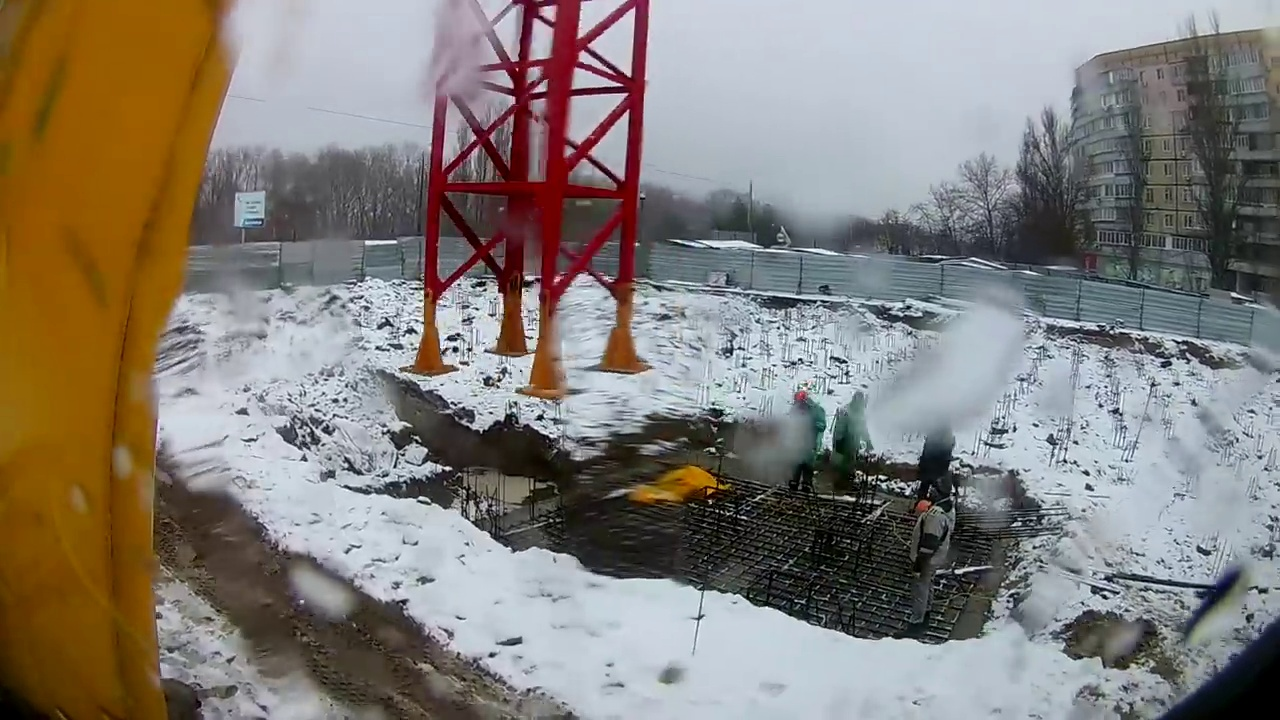helmet: (916, 500, 931, 515), (793, 391, 808, 402)
helmet-off: (923, 475, 954, 515)
helmet-on: (792, 391, 811, 409)
person: (904, 476, 959, 628), (784, 391, 827, 497), (831, 392, 872, 495), (918, 412, 955, 502)
